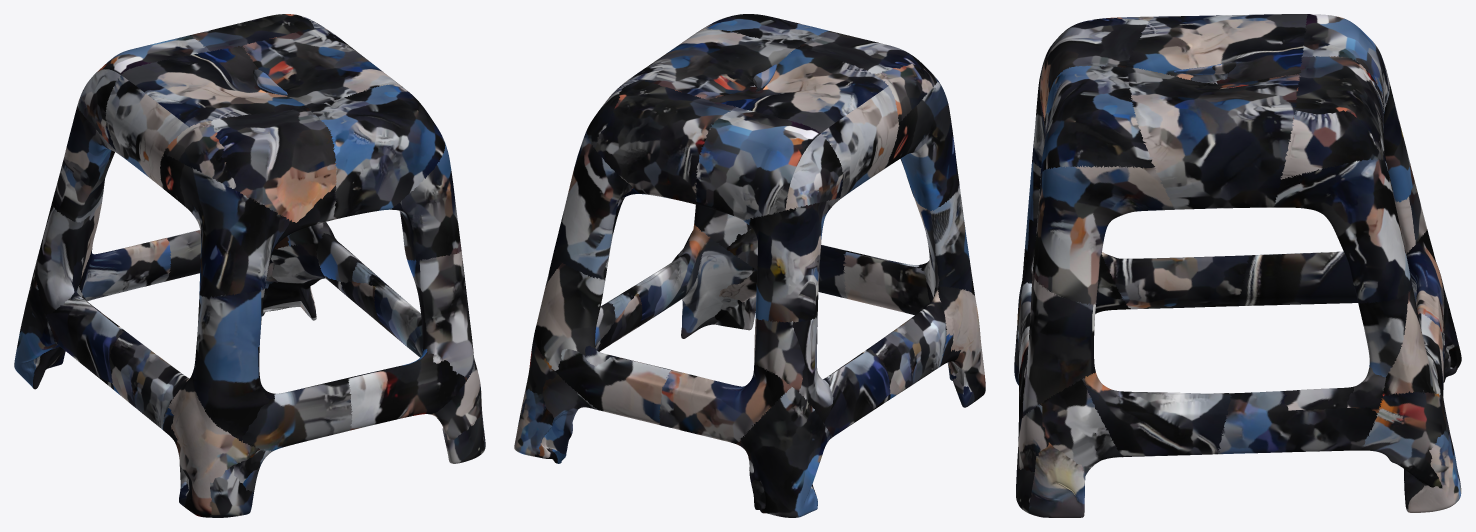
3 renders of one model, left to right at view 1: azimuth 30°, elevation 25°; view 2: azimuth 150°, elevation 25°; view 3: azimuth 270°, elevation 25°, orthographic. The views are drawn at different scales.
Visible parts, largest first — view 1: tripo_node_4e5f27f8-e754-4029-ac7d-0b10291ef3ac; view 2: tripo_node_4e5f27f8-e754-4029-ac7d-0b10291ef3ac; view 3: tripo_node_4e5f27f8-e754-4029-ac7d-0b10291ef3ac.
Part boxes in pixels (left/top/right/bottom): tripo_node_4e5f27f8-e754-4029-ac7d-0b10291ef3ac: left=14, top=14, right=485, bottom=517; tripo_node_4e5f27f8-e754-4029-ac7d-0b10291ef3ac: left=514, top=14, right=985, bottom=517; tripo_node_4e5f27f8-e754-4029-ac7d-0b10291ef3ac: left=1014, top=14, right=1461, bottom=517.
Size of the model in its own units: 82.39 by 93.96 by 100.
